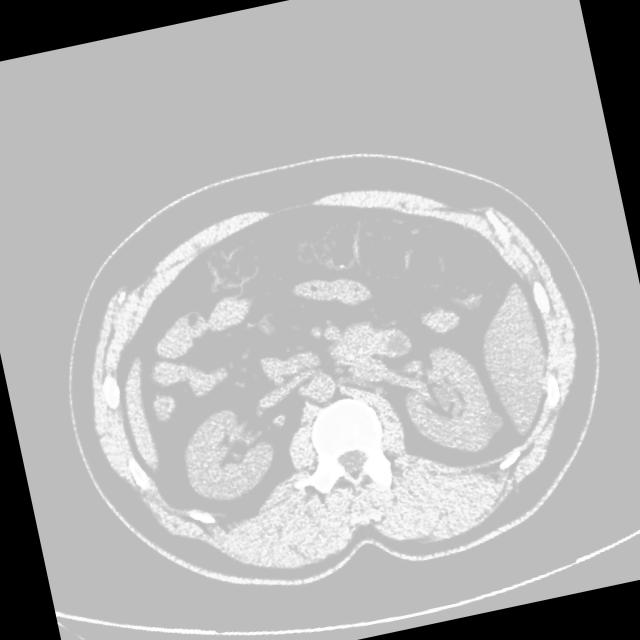cysts: (42, 126, 624, 622)
